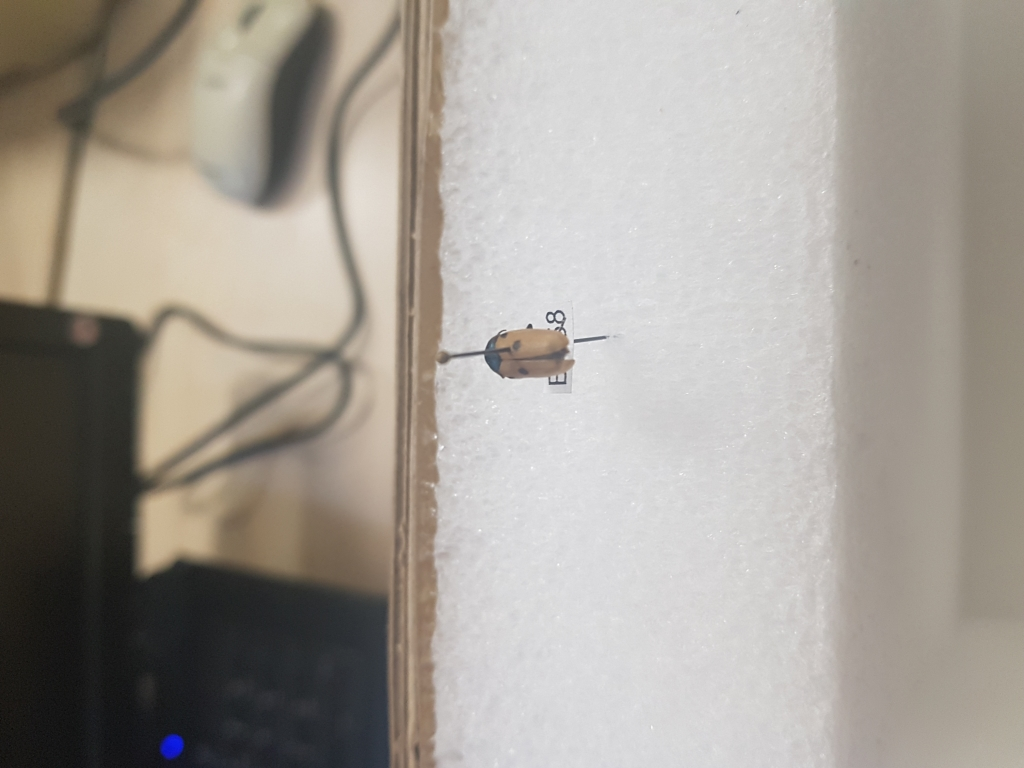Labidostomis_maculipennis: (479, 323, 584, 384)
